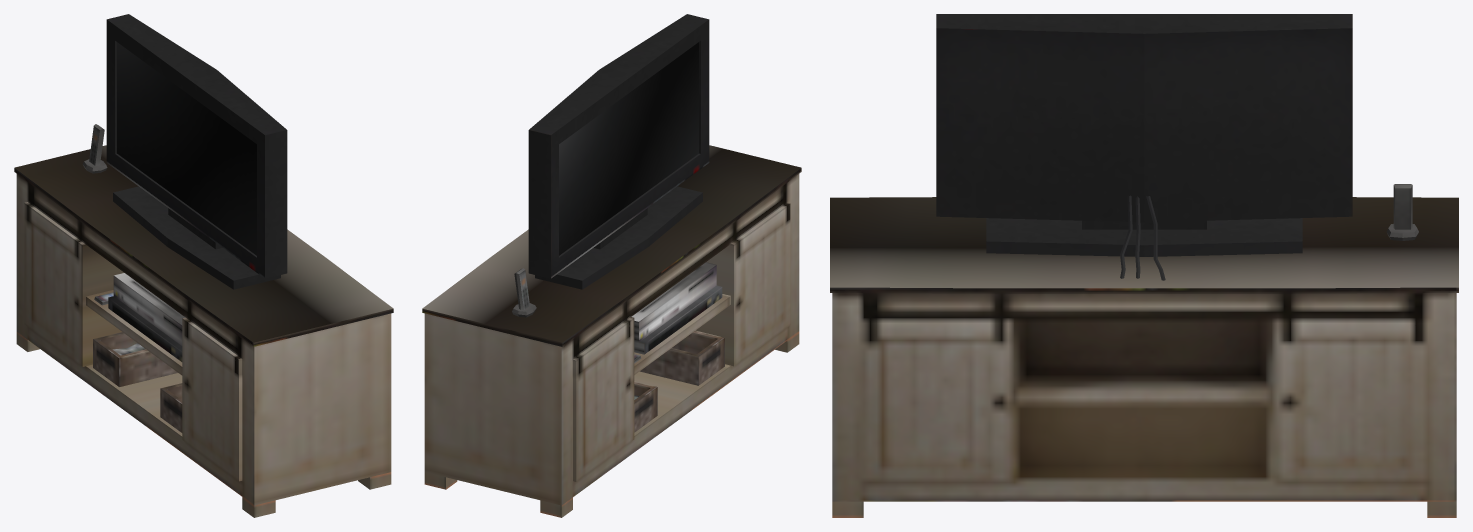
File: SM_Media_Table_01.fbx
The picture shows the model from 3 angles, left to right: view 1: azimuth 30°, elevation 25°; view 2: azimuth 150°, elevation 25°; view 3: azimuth 270°, elevation 25°; orthographic projection. The views are drawn at different scales.
Visible parts, largest first — view 1: SM_Media_Table_01; view 2: SM_Media_Table_01; view 3: SM_Media_Table_01.
Boxes of the visible parts, <box> form: SM_Media_Table_01: <box>14,14,393,517</box>; SM_Media_Table_01: <box>422,14,801,517</box>; SM_Media_Table_01: <box>830,14,1458,517</box>.
Bounding box in the file's own units: 52.28 × 119 × 151.
